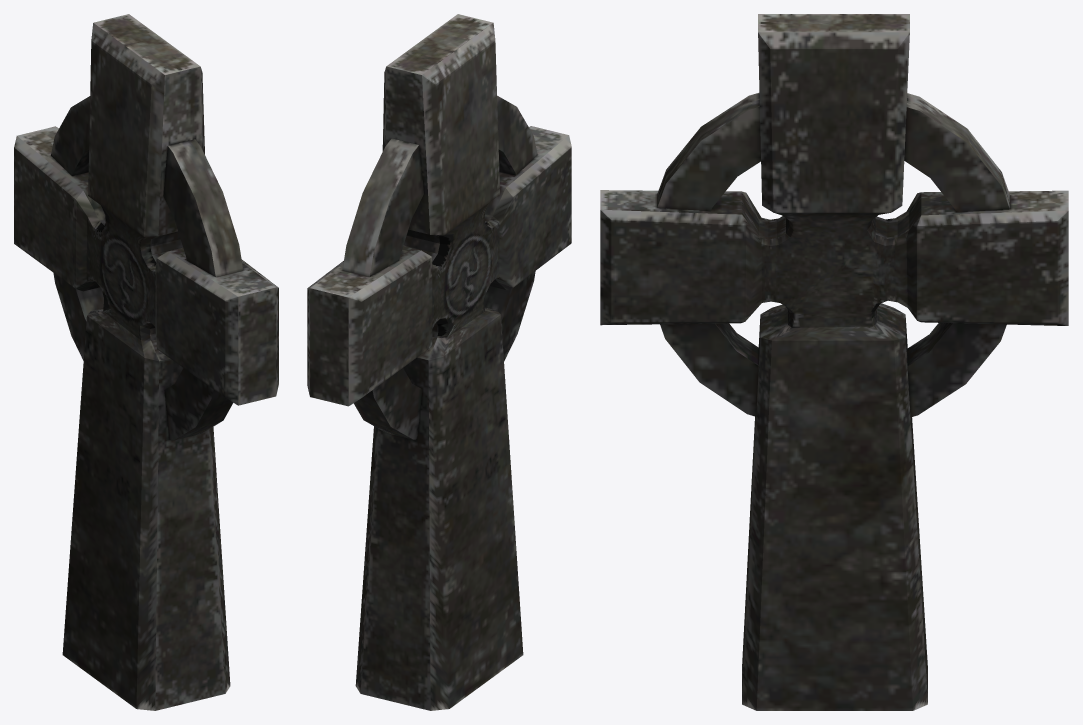
The model's file is tombstone03.dae.
3 renders of one model, left to right at view 1: azimuth 30°, elevation 25°; view 2: azimuth 150°, elevation 25°; view 3: azimuth 270°, elevation 25°, orthographic. The views are drawn at different scales.
Parts seen in each view (by area): view 1: polySurface6; view 2: polySurface6; view 3: polySurface6.
Boxes of the visible parts, <box> form: polySurface6: <box>14,14,278,710</box>; polySurface6: <box>307,14,571,710</box>; polySurface6: <box>600,14,1068,710</box>.
Bounding box in the file's own units: 0.2307 × 1.47 × 0.9394.
